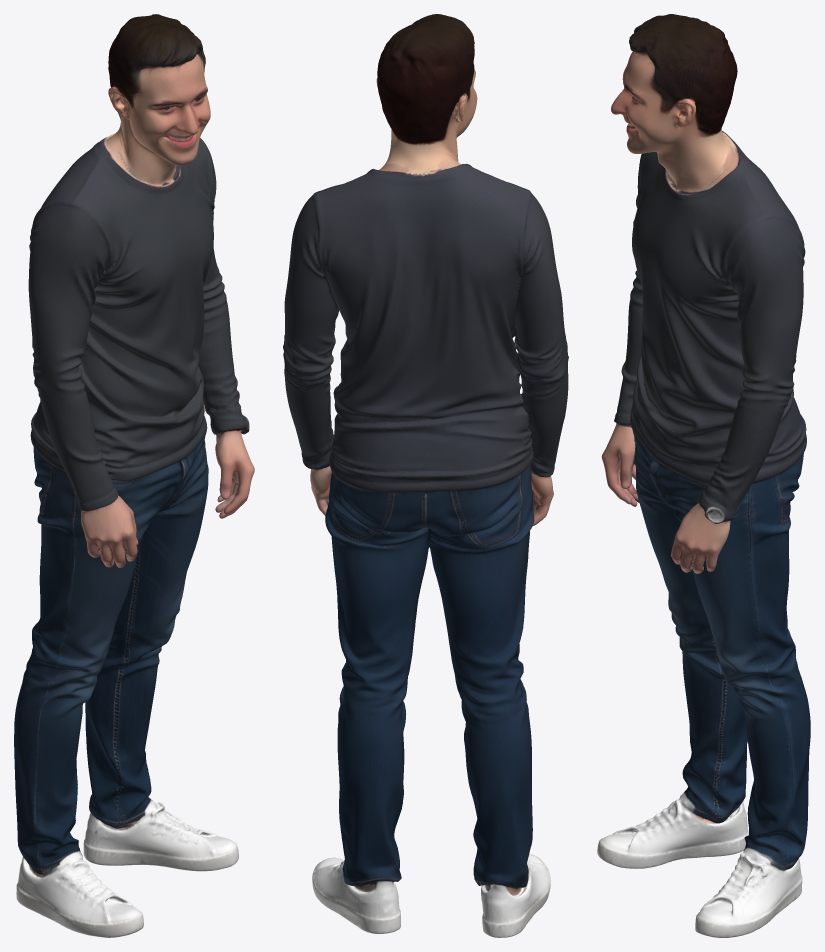
Rendered from casual_studio_portrait_of_a_man.glb.
3 renders of one model, left to right at view 1: azimuth 30°, elevation 25°; view 2: azimuth 150°, elevation 25°; view 3: azimuth 270°, elevation 25°, orthographic.
Visible parts, largest first — view 1: Object_6, Object_7, Object_5; view 2: Object_5, Object_6, Object_7; view 3: Object_6, Object_5, Object_7.
Part boxes in pixels (x1,y1,x2,y2): Object_6: (16,14,254,932); Object_7: (36,24,210,937); Object_5: (14,16,249,936); Object_5: (284,38,568,937); Object_6: (283,17,564,933); Object_7: (414,14,568,879); Object_6: (638,14,810,929); Object_5: (597,25,806,937); Object_7: (597,15,677,868).
Size of the model in its own units: 0.5315 by 1.9 by 0.4201.
Materials: 1 (1 with a texture image).
